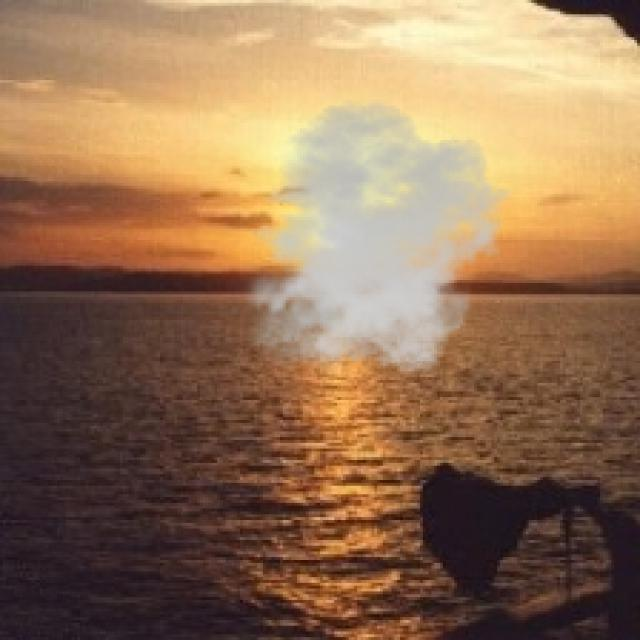smoke: (232, 100, 512, 383)
